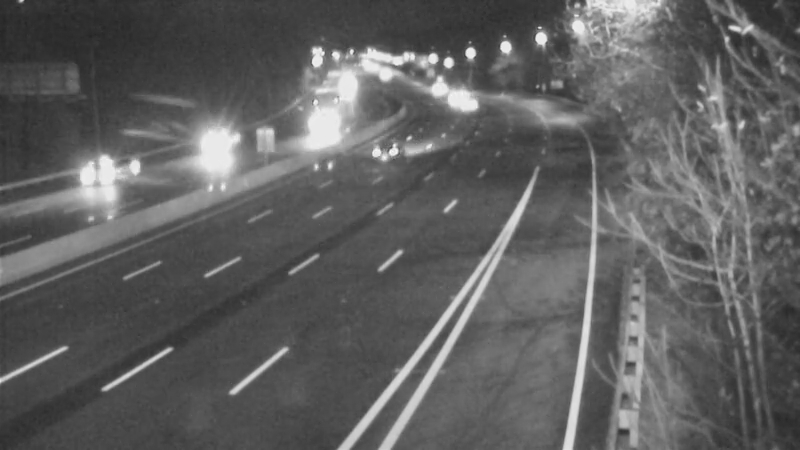vehicle: (63, 136, 143, 216), (407, 63, 457, 113), (428, 74, 478, 124), (440, 81, 490, 131), (363, 124, 413, 174), (192, 121, 242, 171), (300, 103, 350, 153)
